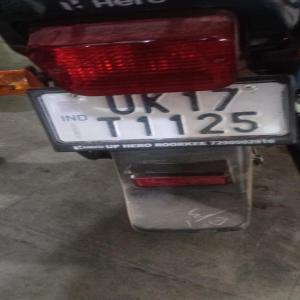Plate: (44, 79, 287, 140)
